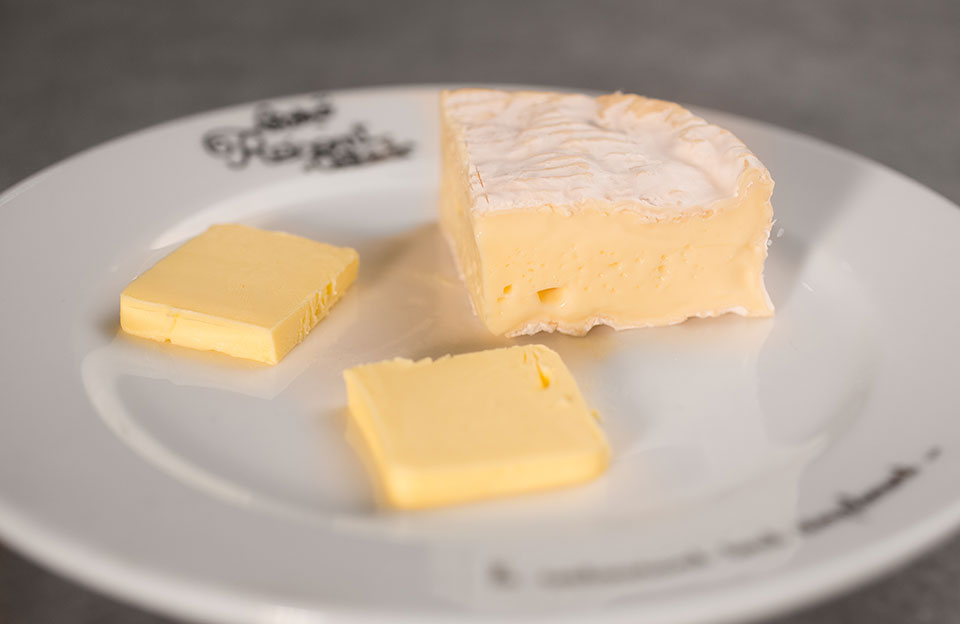camembert: (435, 85, 778, 347)
